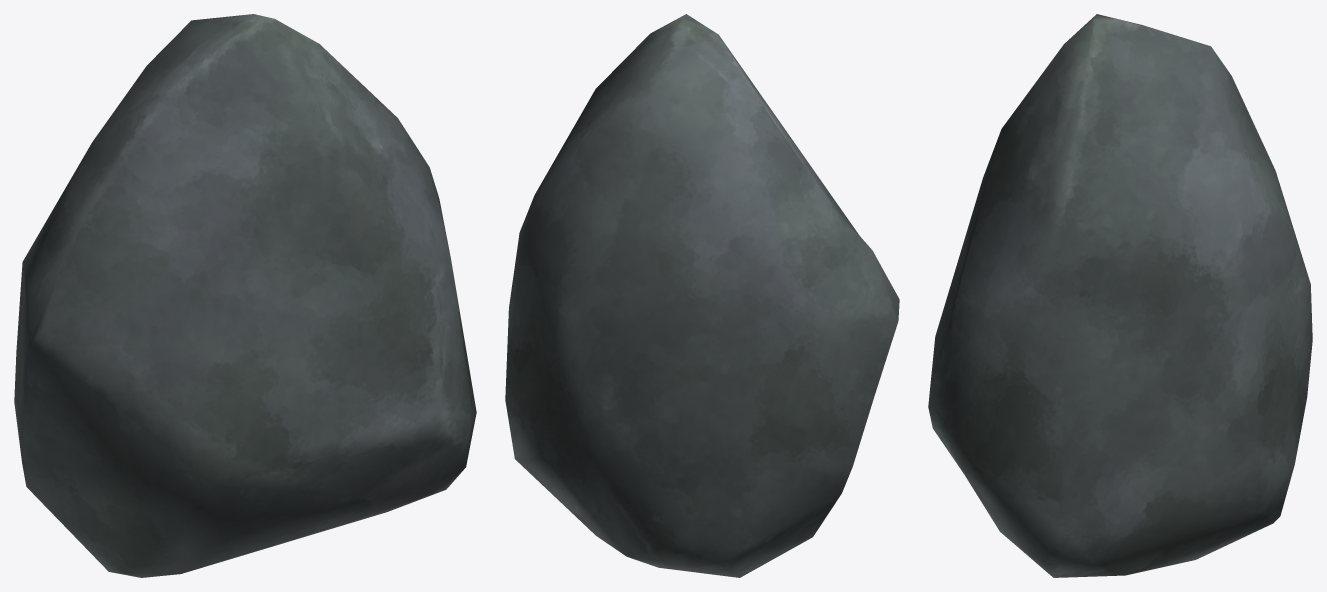
The model's file is rock_02.fbx.
3 renders of one model, left to right at view 1: azimuth 30°, elevation 25°; view 2: azimuth 150°, elevation 25°; view 3: azimuth 270°, elevation 25°, orthographic. The views are drawn at different scales.
Parts seen in each view (by area): view 1: rock_02; view 2: rock_02; view 3: rock_02.
Part boxes in pixels (bbox=[...]): rock_02: bbox=[14, 14, 476, 577]; rock_02: bbox=[505, 14, 899, 577]; rock_02: bbox=[928, 14, 1312, 577].
Size of the model in its own units: 124 by 155 by 98.38.
